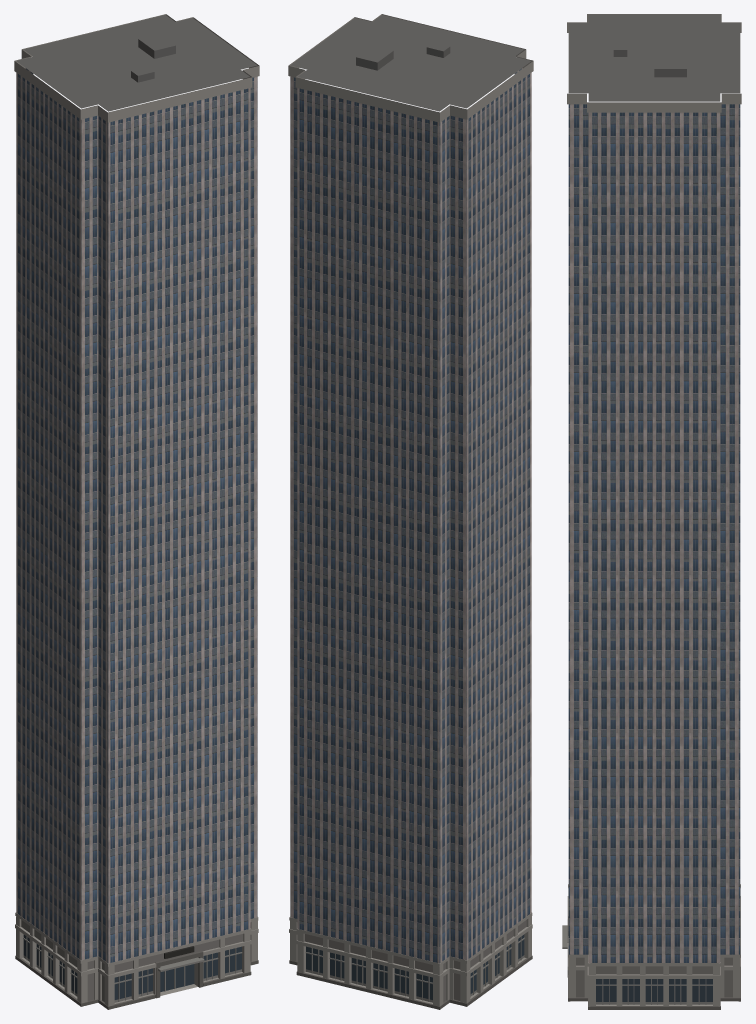
Rendered from wells_fargo_center.glb.
The picture shows the model from 3 angles, left to right: view 1: azimuth 30°, elevation 25°; view 2: azimuth 150°, elevation 25°; view 3: azimuth 270°, elevation 25°; orthographic projection.
Parts seen in each view (by area): view 1: wells_fargo_center; view 2: wells_fargo_center; view 3: wells_fargo_center.
Boxes of the visible parts, x1=… form: wells_fargo_center: x1=14, y1=14, x2=259, y2=1009; wells_fargo_center: x1=288, y1=14, x2=533, y2=1009; wells_fargo_center: x1=562, y1=14, x2=741, y2=1009.
Size of the model in its own units: 36.5 by 177 by 31.35.
2 materials, 2 textured.
